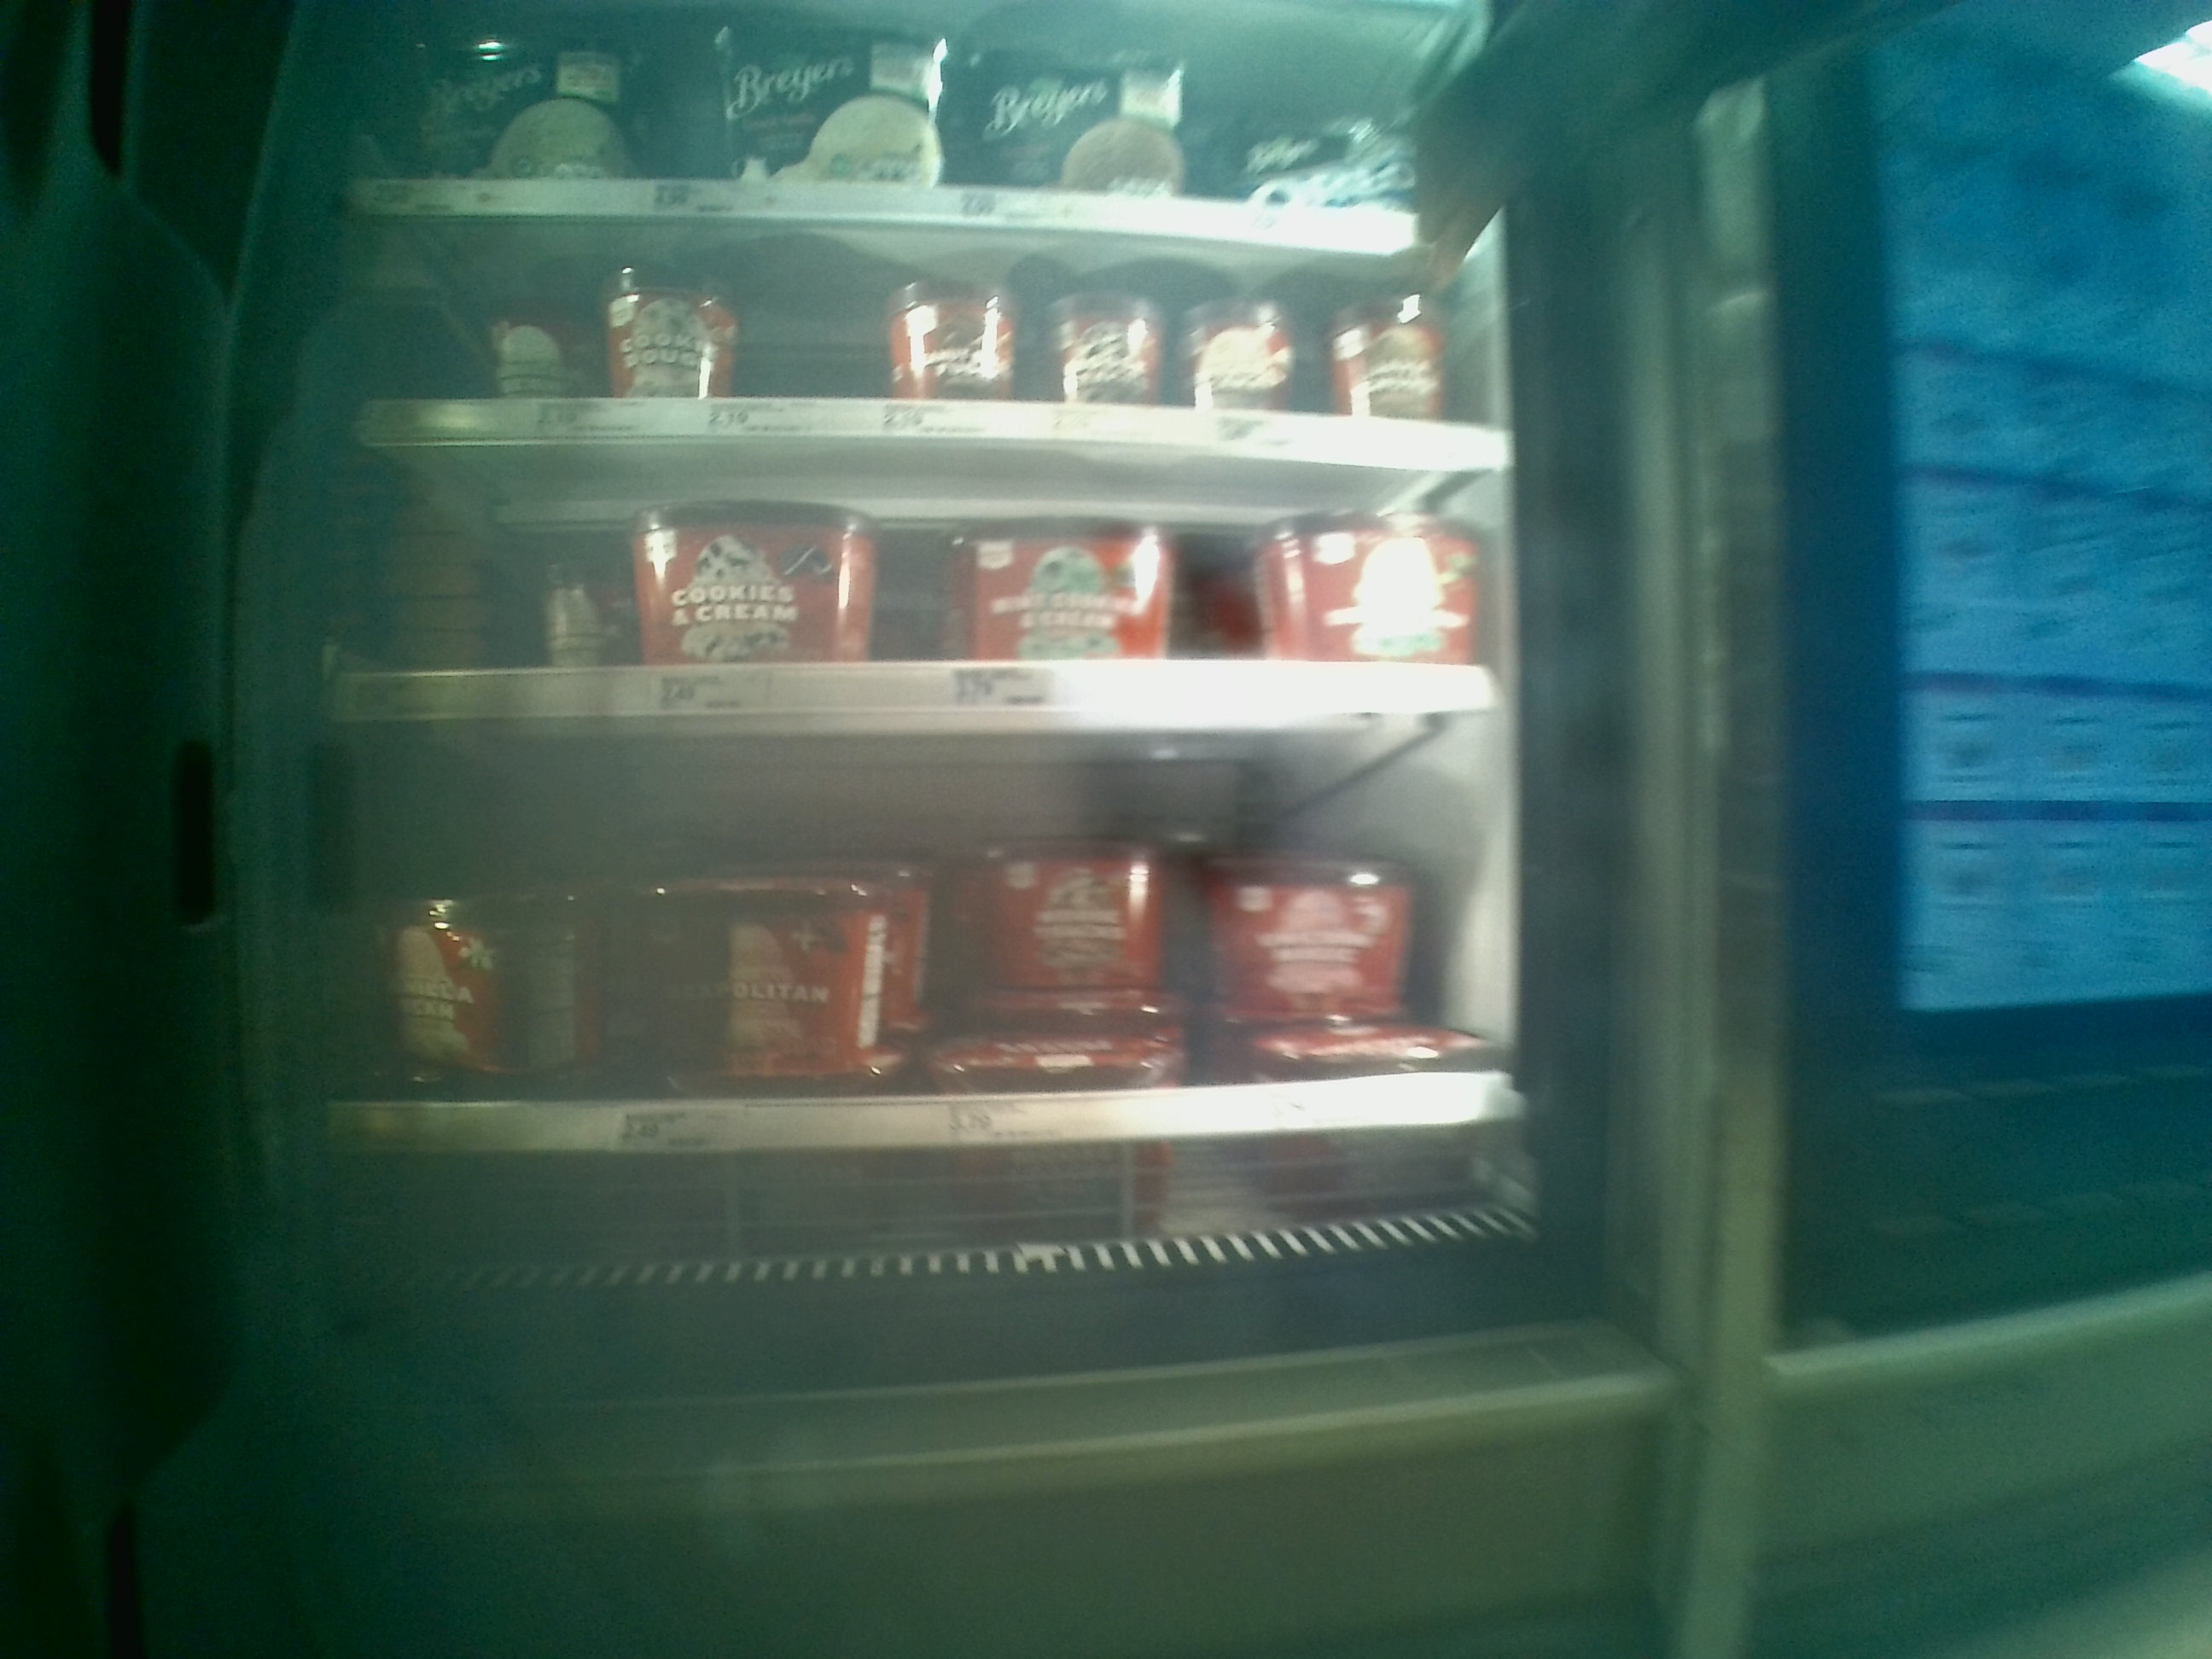ice-cream-shelf: (326, 708, 1536, 1188), (324, 432, 1538, 706)
